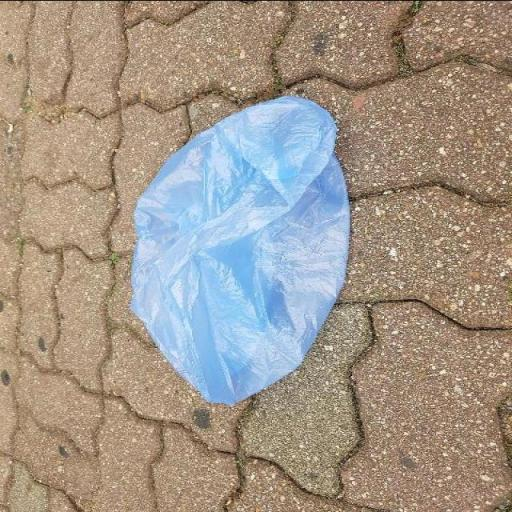plastic-bag: (124, 89, 350, 394)
